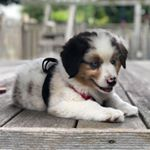puppy: (1, 26, 142, 126)
